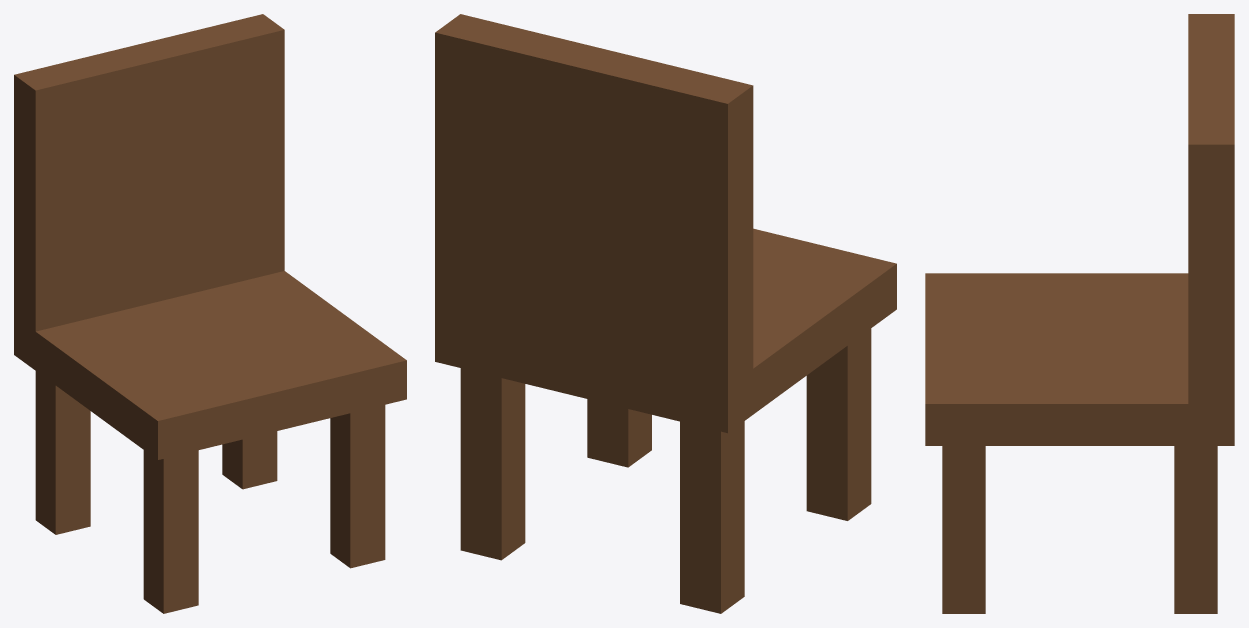
The model's file is Prop_Silla.obj.
3 renders of one model, left to right at view 1: azimuth 30°, elevation 25°; view 2: azimuth 150°, elevation 25°; view 3: azimuth 270°, elevation 25°, orthographic. The views are drawn at different scales.
Parts seen in each view (by area): view 1: madera; view 2: madera; view 3: madera.
Boxes of the visible parts, x1,y1,x2,y2 form: madera: (14,14,406,613); madera: (435,14,896,613); madera: (925,14,1234,613).
Size of the model in its own units: 0.2 by 0.34 by 0.2.
